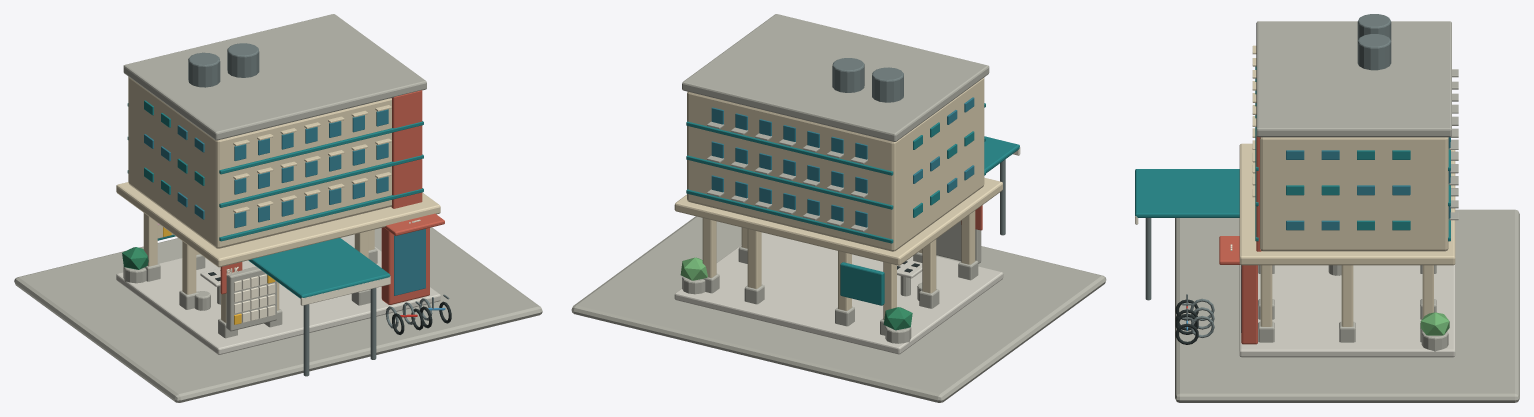
File: hdb-voiddeck-v2.glb
The picture shows the model from 3 angles, left to right: view 1: azimuth 30°, elevation 25°; view 2: azimuth 150°, elevation 25°; view 3: azimuth 270°, elevation 25°; orthographic projection. The views are drawn at different scales.
Visible parts, largest first — view 1: HDB VOID DECK · Warm plaster, Ground, HDB VOID DECK · Concrete, HDB VOID DECK · Terrazzo, HDB VOID DECK · Deep teal, HDB VOID DECK · Graphic glass, HDB VOID DECK · Terracotta, HDB VOID DECK · Dark metal, HDB VOID DECK · Chalk, HDB VOID DECK · Ink, HDB VOID DECK · Plant deep; view 2: HDB VOID DECK · Warm plaster, Ground, HDB VOID DECK · Concrete, HDB VOID DECK · Terrazzo, HDB VOID DECK · Deep teal, HDB VOID DECK · Graphic glass, HDB VOID DECK · Dark metal, HDB VOID DECK · Plant deep, HDB VOID DECK · Plant mid; view 3: Ground, HDB VOID DECK · Warm plaster, HDB VOID DECK · Concrete, HDB VOID DECK · Terrazzo, HDB VOID DECK · Deep teal, HDB VOID DECK · Dark metal, HDB VOID DECK · Terracotta, HDB VOID DECK · Graphic glass, HDB VOID DECK · Ink, HDB VOID DECK · Plant mid.
Boxes of the visible parts, left/top/right/bottom form: HDB VOID DECK · Warm plaster: left=116, top=76, right=440, bottom=322; Ground: left=14, top=227, right=542, bottom=402; HDB VOID DECK · Concrete: left=123, top=14, right=426, bottom=338; HDB VOID DECK · Terrazzo: left=116, top=234, right=440, bottom=354; HDB VOID DECK · Deep teal: left=127, top=100, right=423, bottom=298; HDB VOID DECK · Graphic glass: left=144, top=109, right=425, bottom=295; HDB VOID DECK · Terracotta: left=220, top=90, right=444, bottom=304; HDB VOID DECK · Dark metal: left=188, top=43, right=449, bottom=376; HDB VOID DECK · Chalk: left=226, top=219, right=420, bottom=322; HDB VOID DECK · Ink: left=208, top=270, right=451, bottom=334; HDB VOID DECK · Plant deep: left=122, top=247, right=148, bottom=269; HDB VOID DECK · Warm plaster: left=674, top=77, right=1002, bottom=319; Ground: left=571, top=216, right=1106, bottom=402; HDB VOID DECK · Concrete: left=682, top=14, right=989, bottom=343; HDB VOID DECK · Terrazzo: left=674, top=232, right=1003, bottom=354; HDB VOID DECK · Deep teal: left=686, top=103, right=1019, bottom=305; HDB VOID DECK · Graphic glass: left=711, top=97, right=974, bottom=227; HDB VOID DECK · Dark metal: left=832, top=58, right=1005, bottom=235; HDB VOID DECK · Plant deep: left=883, top=307, right=912, bottom=330; HDB VOID DECK · Plant mid: left=680, top=257, right=707, bottom=280; Ground: left=1175, top=209, right=1519, bottom=402; HDB VOID DECK · Warm plaster: left=1239, top=45, right=1455, bottom=326; HDB VOID DECK · Concrete: left=1256, top=21, right=1458, bottom=351; HDB VOID DECK · Terrazzo: left=1239, top=264, right=1455, bottom=357; HDB VOID DECK · Deep teal: left=1135, top=66, right=1450, bottom=241; HDB VOID DECK · Dark metal: left=1145, top=14, right=1391, bottom=337; HDB VOID DECK · Terracotta: left=1219, top=135, right=1261, bottom=344; HDB VOID DECK · Graphic glass: left=1241, top=137, right=1450, bottom=332; HDB VOID DECK · Ink: left=1175, top=299, right=1198, bottom=344; HDB VOID DECK · Plant mid: left=1420, top=312, right=1449, bottom=335.
Bounding box in the file's own units: 13.2 × 8.48 × 11.41.
Materials: 1 (1 with a texture image).
